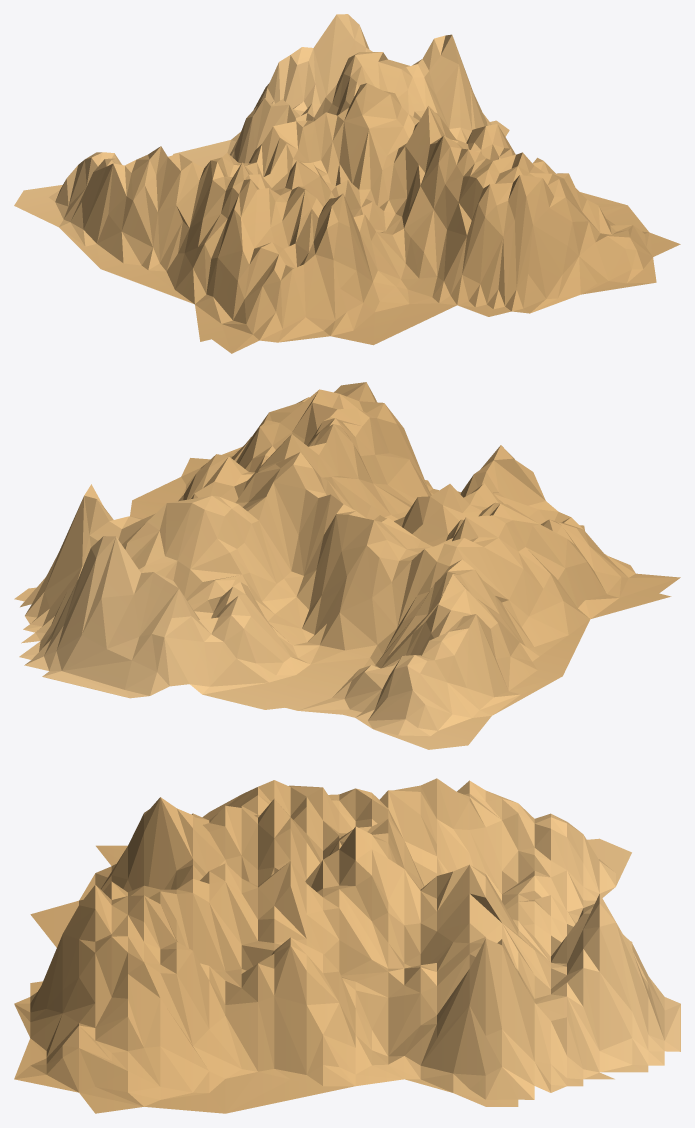
Rendered from IslandBelowVolcano.fbx.
3 views of the same model, one above another, from view 1: azimuth 30°, elevation 25°; view 2: azimuth 150°, elevation 25°; view 3: azimuth 270°, elevation 25° (orthographic). The views are drawn at different scales.
Parts seen in each view (by area): view 1: islandbelowvolcano:IslandBelowVolcano:TerrainMesh; view 2: islandbelowvolcano:IslandBelowVolcano:TerrainMesh; view 3: islandbelowvolcano:IslandBelowVolcano:TerrainMesh.
Part boxes in pixels (<box>): islandbelowvolcano:IslandBelowVolcano:TerrainMesh: <box>14,14,680,353</box>; islandbelowvolcano:IslandBelowVolcano:TerrainMesh: <box>14,382,680,749</box>; islandbelowvolcano:IslandBelowVolcano:TerrainMesh: <box>14,778,680,1113</box>.
Size of the model in its own units: 27.74 by 7.7 by 28.43.
Materials: 1 (1 with a texture image).
